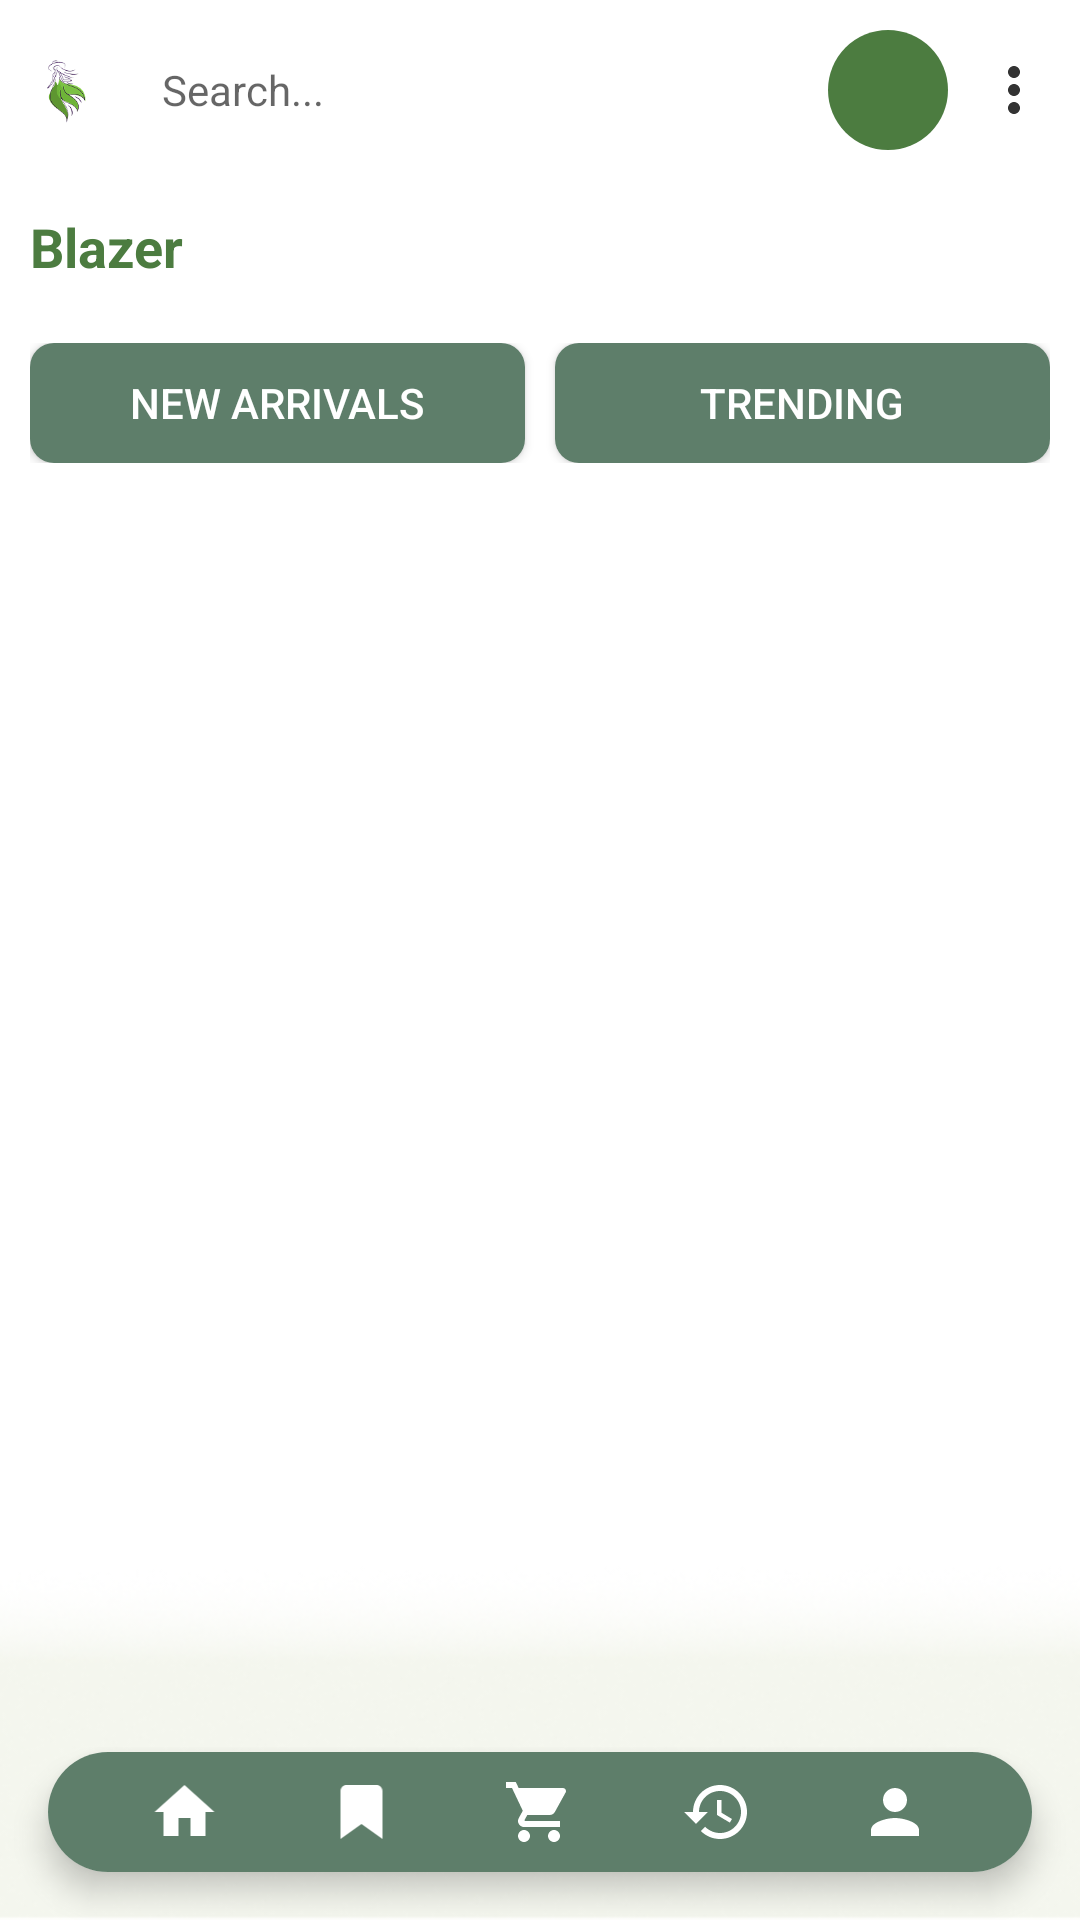

Icons on this 1080*1920 Android screen, each with the point to tap as [x,y]:
Cart: [536,1812]
History: [715,1812]
Home: [184,1810]
Menu Button: [1014,90]
Profile: [895,1812]
Saved: [361,1812]
